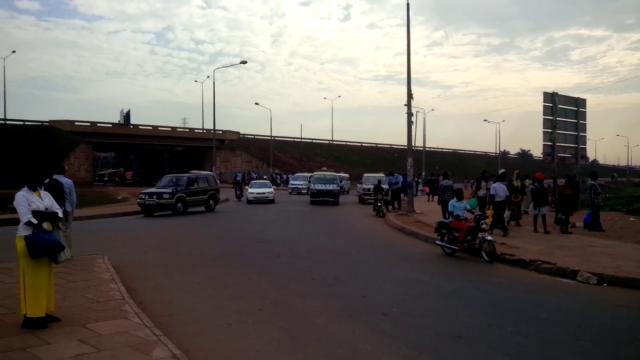car: (134, 171, 219, 216), (246, 179, 275, 204), (287, 170, 310, 195)
motorcycle: (432, 187, 499, 261), (370, 179, 386, 219)
truck: (356, 171, 390, 204)
van: (309, 170, 340, 206)
